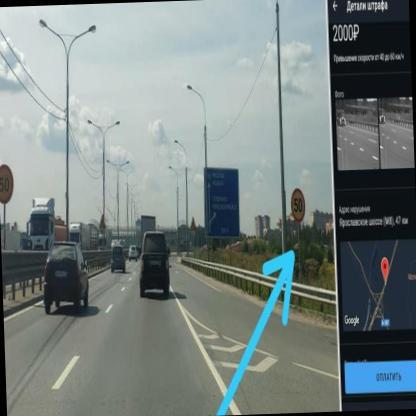obstructed_road_sign: (0, 164, 13, 204)
road_sign: (291, 188, 306, 223)
